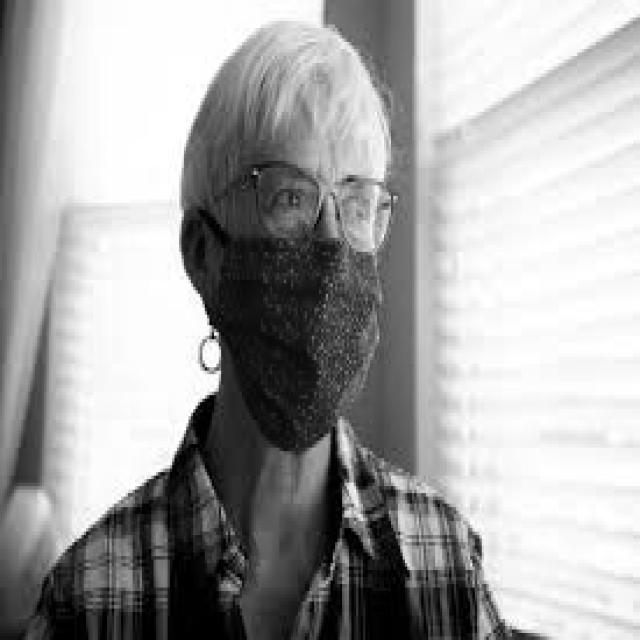with_mask: (198, 210, 382, 451)
